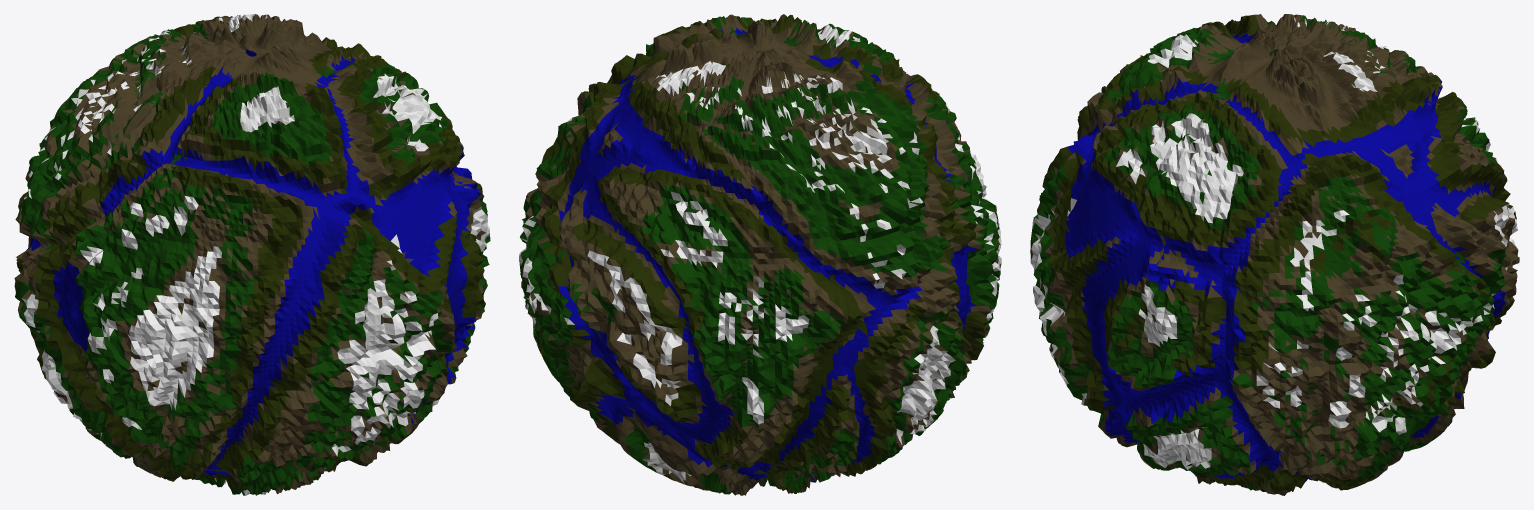
Rendered from Planet1.fbx.
The picture shows the model from 3 angles, left to right: view 1: azimuth 30°, elevation 25°; view 2: azimuth 150°, elevation 25°; view 3: azimuth 270°, elevation 25°; orthographic projection.
Visible parts, largest first — view 1: Landscape; view 2: Landscape; view 3: Landscape.
Boxes of the visible parts, box(x1,y1,x2,y2) form: Landscape: box(14, 14, 490, 495); Landscape: box(519, 14, 1001, 495); Landscape: box(1030, 14, 1519, 495).
Size of the model in its own units: 246 by 246 by 247.
